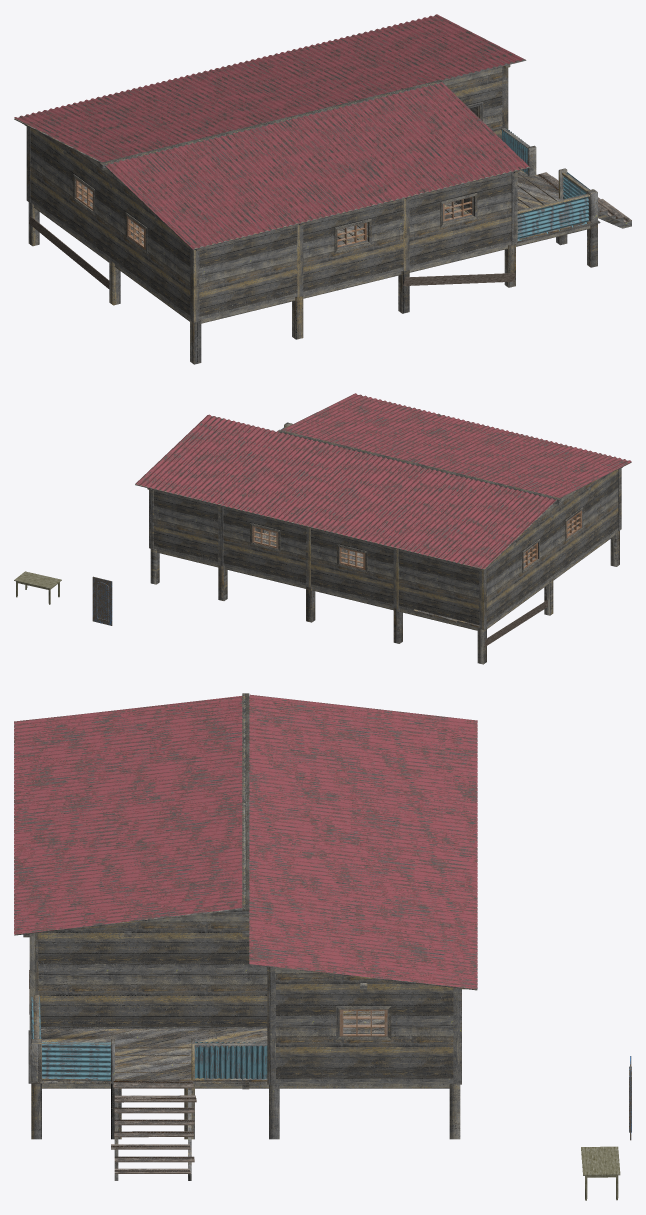
The model's file is Shelter.fbx.
3 renders of one model, top to bottom at view 1: azimuth 30°, elevation 25°; view 2: azimuth 150°, elevation 25°; view 3: azimuth 270°, elevation 25°, orthographic. The views are drawn at different scales.
Visible parts, largest first — view 1: Group3; view 2: Group3, Group4, Group5; view 3: Group3, Group5.
Part boxes in pixels (x1,y1,x2,y2): Group3: [14, 14, 631, 364]; Group3: [135, 393, 631, 664]; Group4: [92, 576, 112, 625]; Group5: [14, 571, 61, 604]; Group3: [14, 693, 477, 1180]; Group5: [581, 1146, 620, 1200].
Size of the model in its own units: 9622 by 2528 by 7668.
